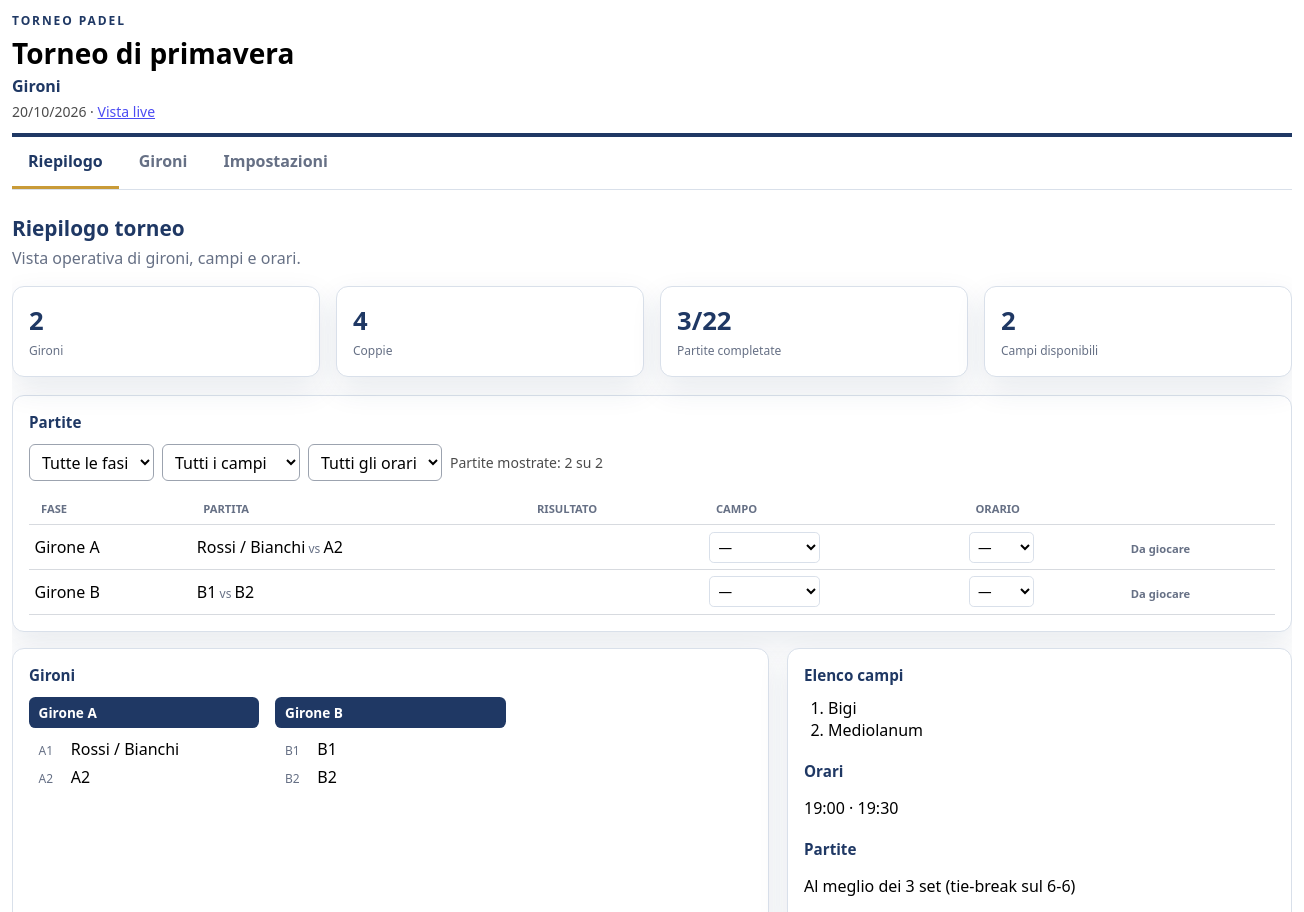
Scenario: TournamentPage › opens the groups tab from the menu of tabs
The image size is (1304, 912).
Click the button "Gironi" at (163,163), box [123, 137, 203, 189]
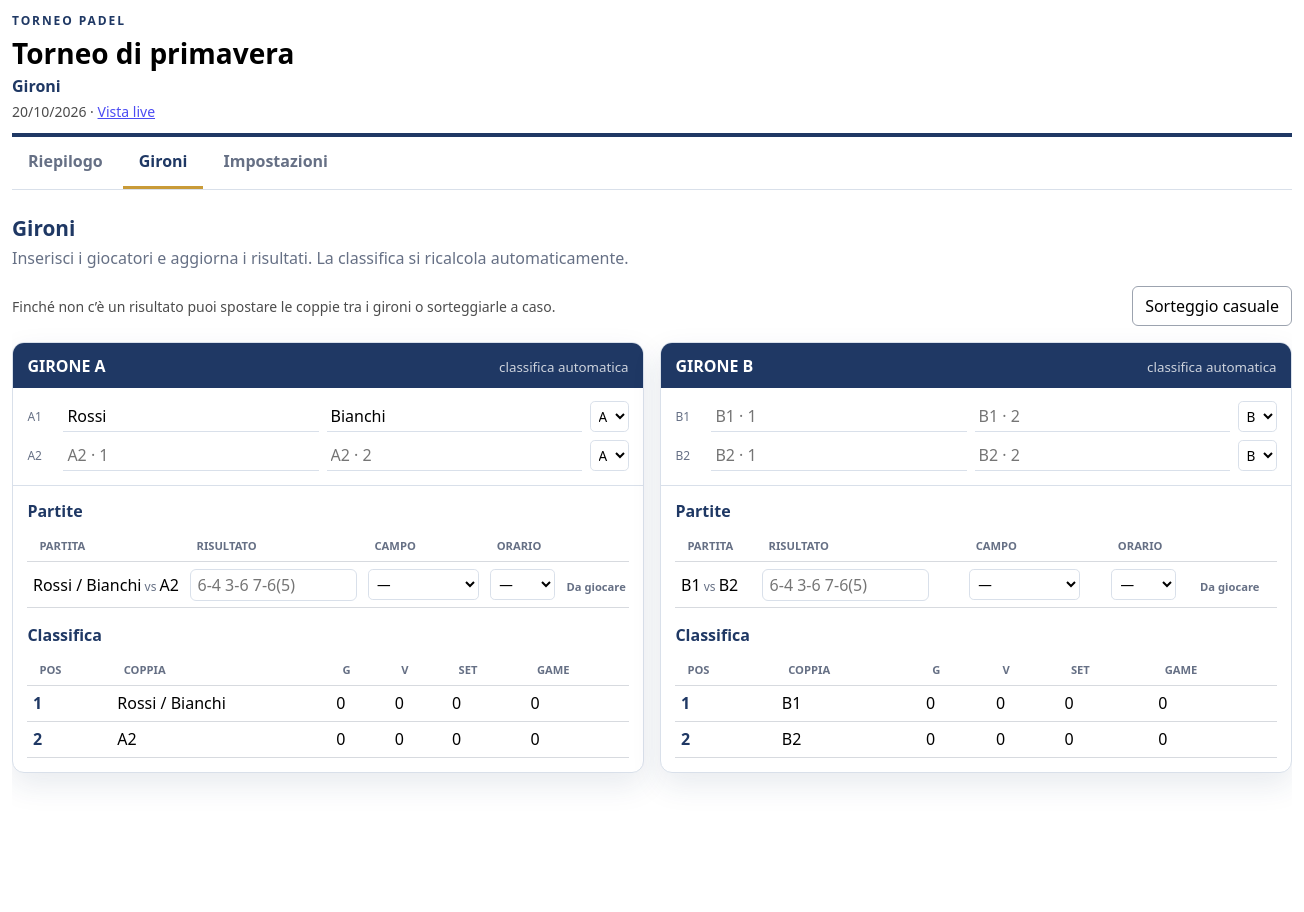
Expected: the text "GIRONE A" is shown, [27, 354, 106, 376]
Now the number of headings "Classifica" is 2, box [27, 624, 102, 646]; [675, 624, 750, 646]
